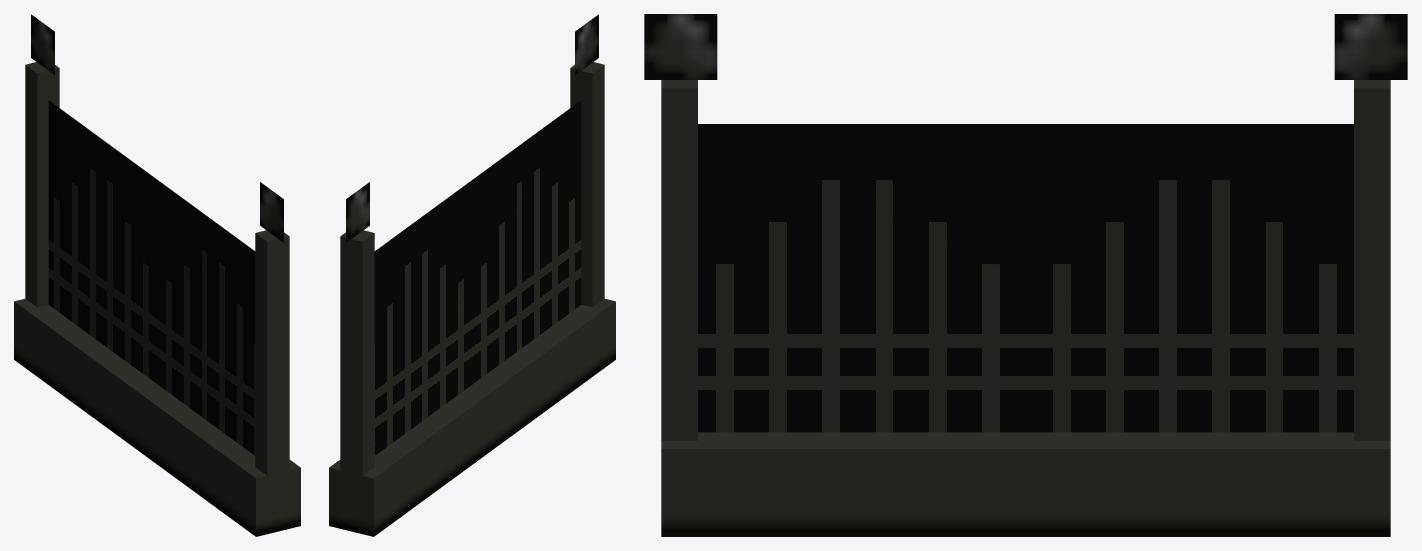
Rendered from parkFence.obj.
The picture shows the model from 3 angles, left to right: view 1: azimuth 30°, elevation 25°; view 2: azimuth 150°, elevation 25°; view 3: azimuth 270°, elevation 25°; orthographic projection. The views are drawn at different scales.
Parts seen in each view (by area): view 1: Plane, Cube; view 2: Plane, Cube; view 3: Plane, Cube.
Part boxes in pixels (left/top/right/bottom): Plane: left=48, top=100, right=255, bottom=455; Cube: left=14, top=14, right=300, bottom=536; Plane: left=374, top=100, right=581, bottom=455; Cube: left=329, top=14, right=615, bottom=536; Plane: left=698, top=124, right=1353, bottom=432; Cube: left=644, top=14, right=1407, bottom=536.
Size of the model in its own units: 0.16 by 1.15 by 1.57.
2 materials, 2 textured.
